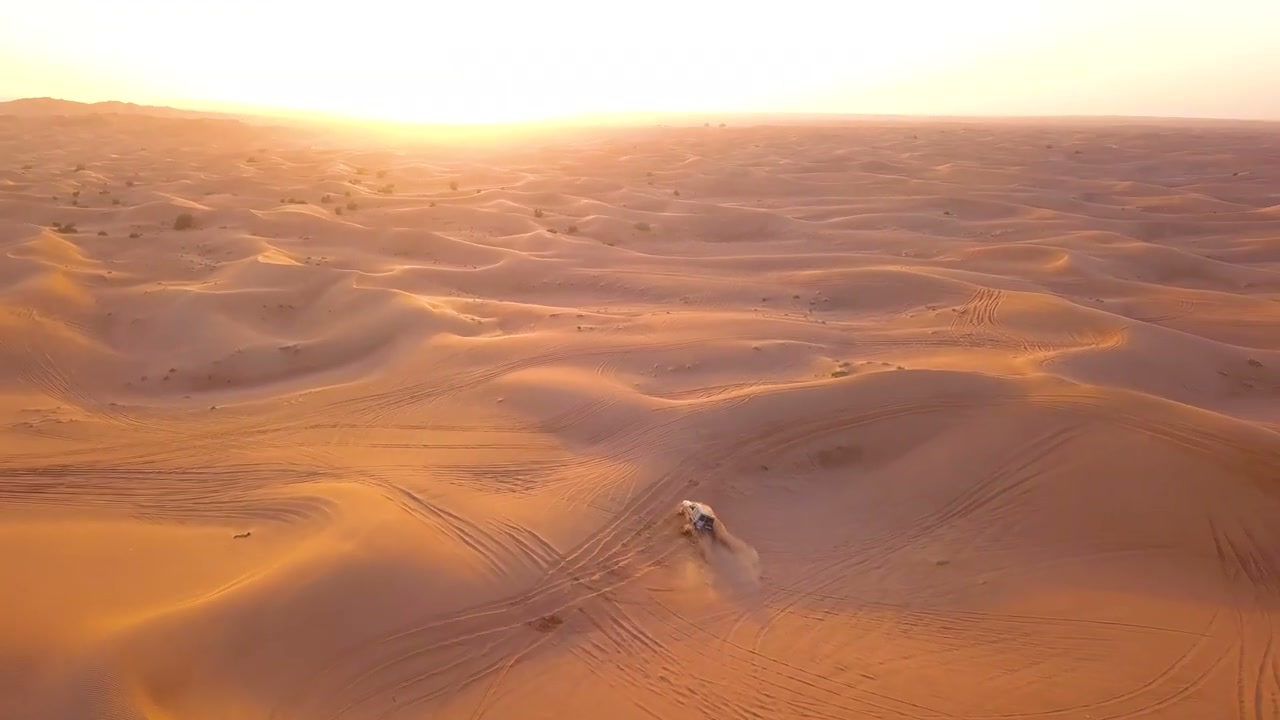vehicle_track: (374, 393, 1027, 647), (272, 443, 734, 717), (380, 438, 740, 644), (220, 335, 756, 446), (294, 541, 642, 701), (817, 593, 1231, 719), (274, 575, 633, 718), (787, 425, 1079, 592), (305, 335, 754, 428), (649, 598, 954, 719), (20, 342, 291, 454), (876, 425, 1080, 555), (429, 403, 680, 505), (775, 587, 1215, 637), (571, 602, 761, 717), (1028, 393, 1279, 480), (910, 423, 1082, 538), (0, 463, 340, 521), (738, 393, 1018, 463), (735, 393, 1015, 463), (319, 633, 546, 719), (989, 642, 1225, 718), (0, 415, 322, 469), (368, 479, 538, 576), (19, 346, 184, 437), (1208, 516, 1279, 719), (557, 408, 684, 505), (949, 288, 1060, 354), (470, 633, 551, 719), (430, 456, 585, 494), (1210, 519, 1279, 596), (497, 520, 561, 569), (950, 287, 1003, 346), (536, 397, 617, 434), (648, 380, 788, 400), (378, 419, 539, 433), (1059, 325, 1130, 352), (355, 441, 544, 451), (1131, 298, 1194, 324)
